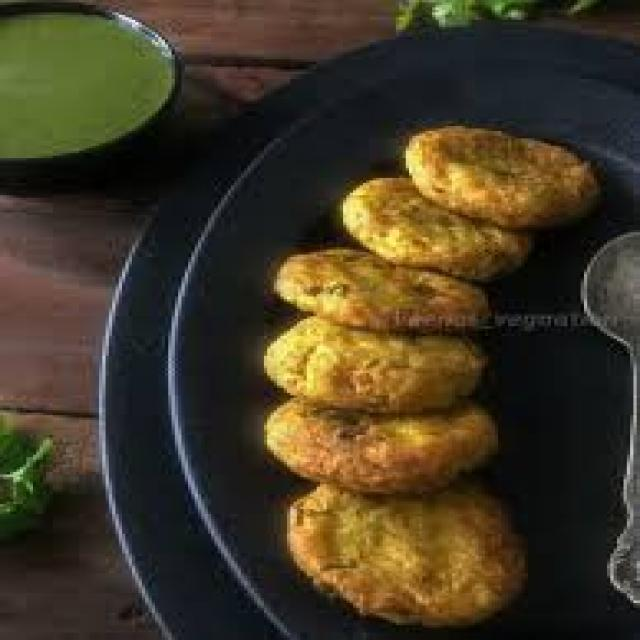Aloo Tikki: (292, 481, 524, 626), (263, 389, 499, 498), (265, 309, 483, 417), (404, 127, 594, 229), (346, 170, 530, 274), (273, 250, 494, 334)
